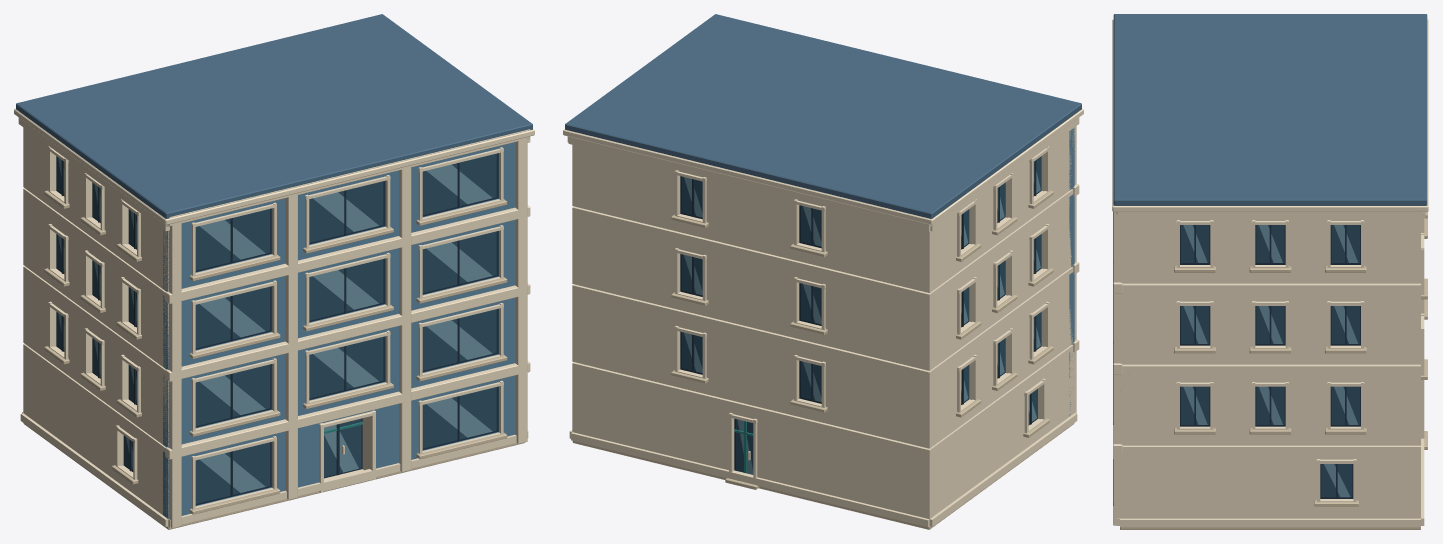
Rendered from frame_office_block.glb.
The picture shows the model from 3 angles, left to right: view 1: azimuth 30°, elevation 25°; view 2: azimuth 150°, elevation 25°; view 3: azimuth 270°, elevation 25°; orthographic projection. The views are drawn at different scales.
Parts seen in each view (by area): view 1: FrameOfficeBlock_StaticMesh; view 2: FrameOfficeBlock_StaticMesh; view 3: FrameOfficeBlock_StaticMesh.
Part boxes in pixels (box(x1,y1,x2,y2)): FrameOfficeBlock_StaticMesh: box(14, 14, 534, 529); FrameOfficeBlock_StaticMesh: box(563, 14, 1083, 529); FrameOfficeBlock_StaticMesh: box(1112, 14, 1428, 529).
Size of the model in its own units: 15.32 by 12.68 by 10.92.
